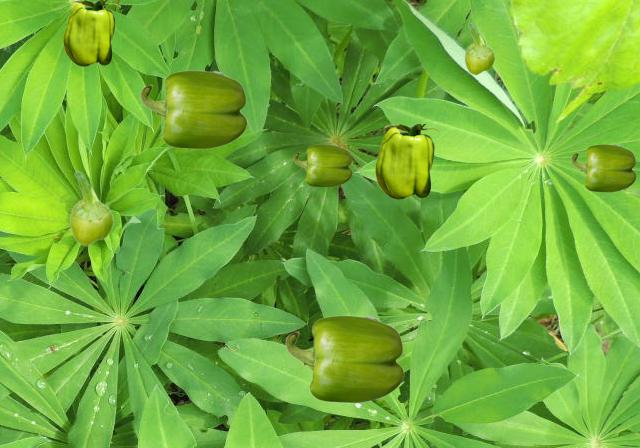bell_pepper: (285, 315, 403, 402), (140, 70, 246, 148), (375, 124, 439, 198), (63, 0, 119, 65), (69, 171, 113, 245), (571, 144, 635, 191), (293, 144, 351, 186), (464, 23, 494, 74)
